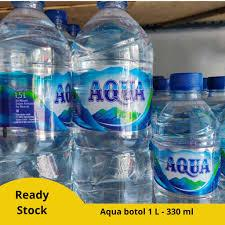BIODEGRADABLE: (155, 68, 216, 217)
